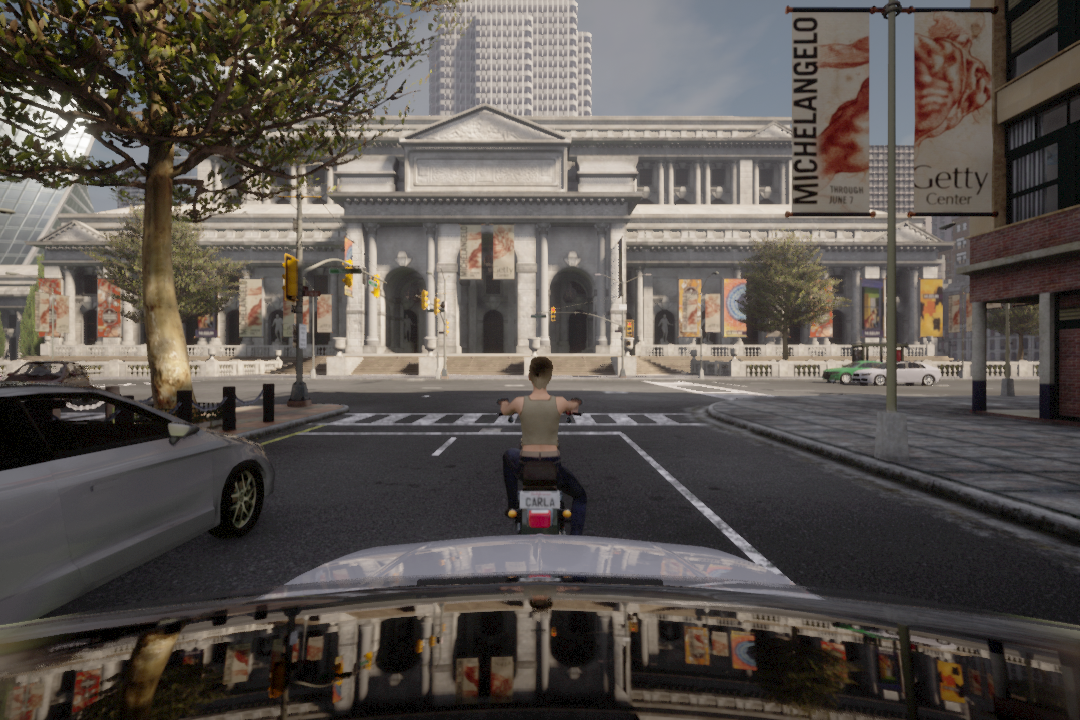TrafficLight: (623, 318, 634, 338), (549, 307, 560, 324)
walkside: (323, 409, 718, 431)
